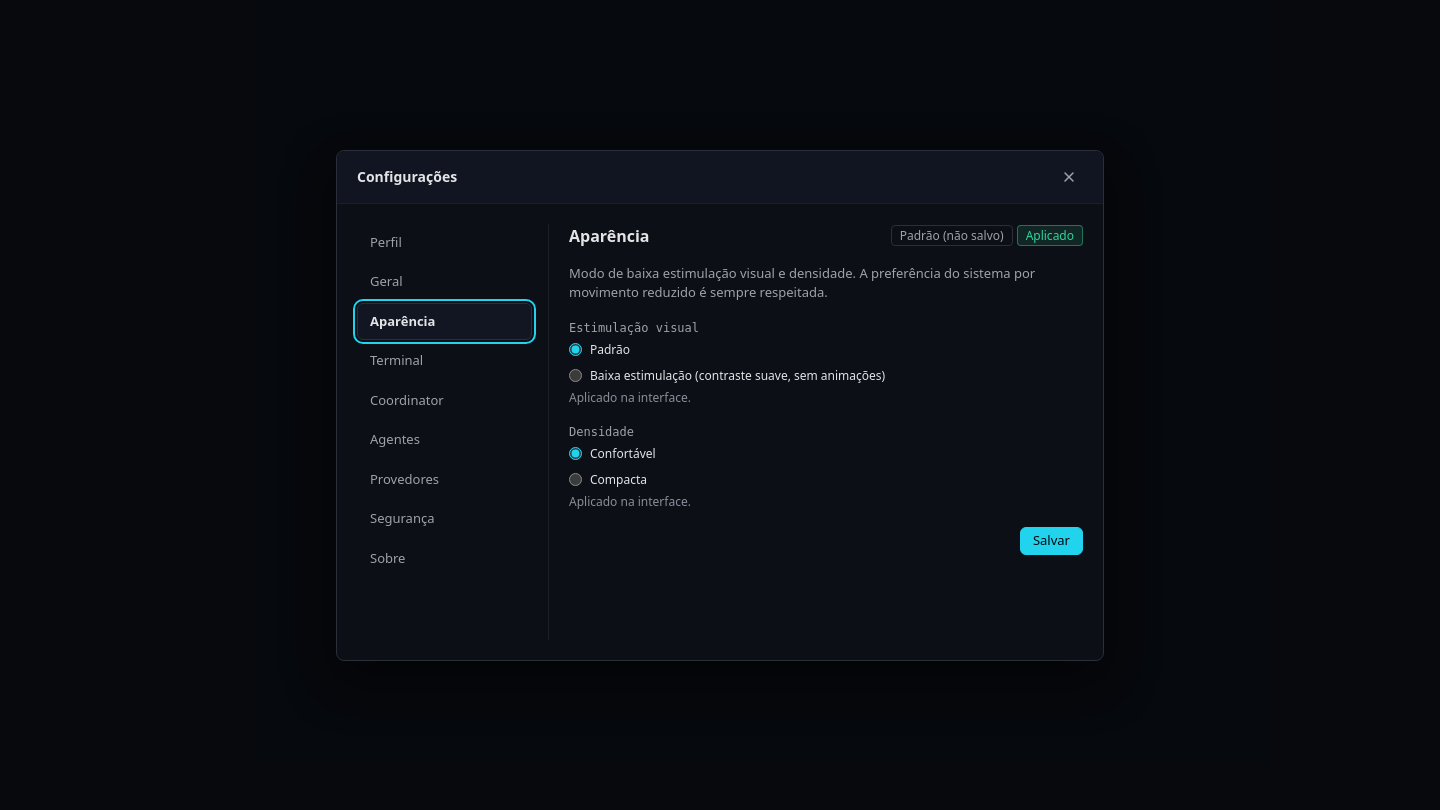
Test: SettingsDialog — configurações integradas (Etapa 4) › salva Aparência e só declara aplicado o modo de baixa estimulação, que é aplicado de fato
Click the radio button labelled "Baixa estimulação (contraste suave, sem animações)" at (576, 375), box [569, 368, 582, 382]
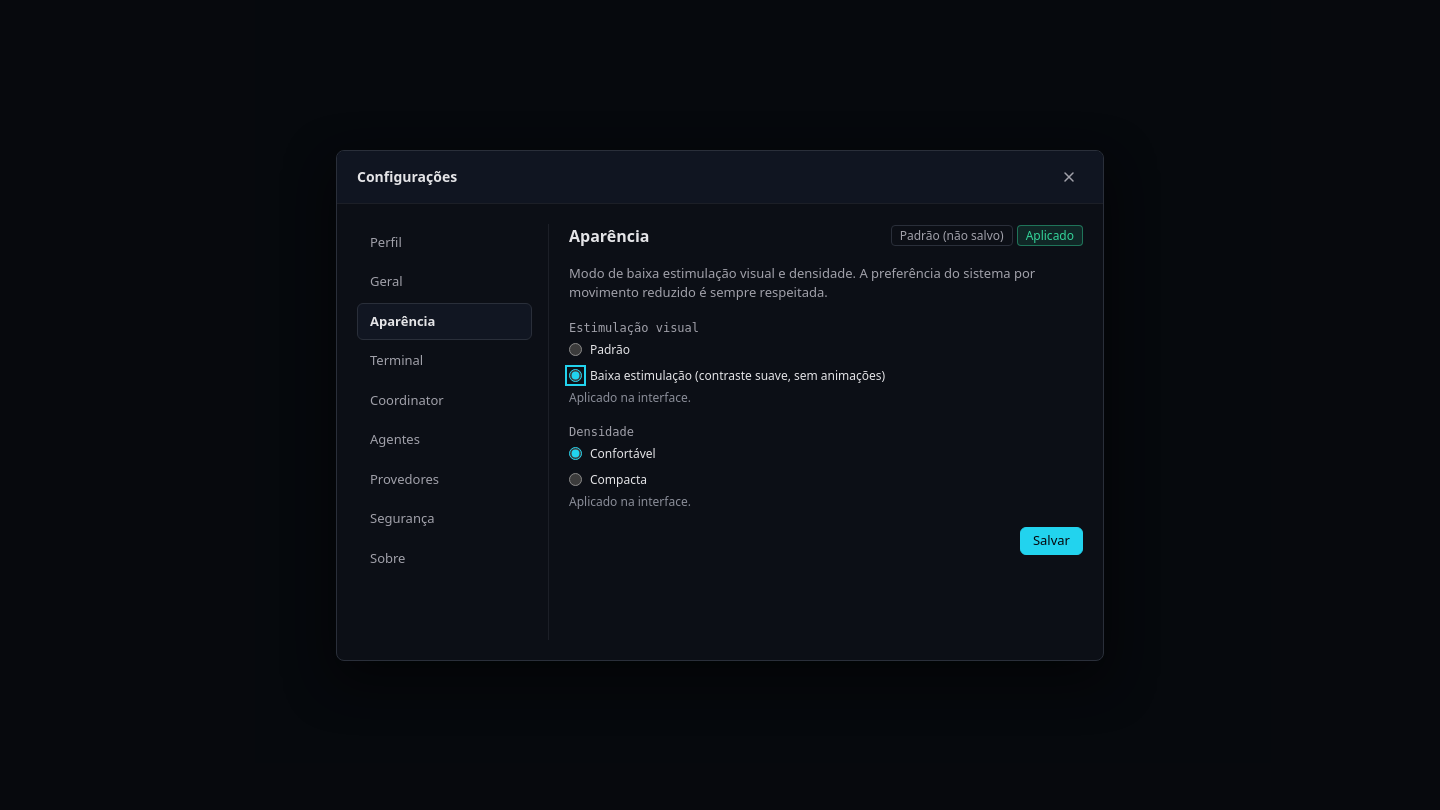
Click the button "Salvar" at (1051, 540), box [1020, 526, 1083, 554]
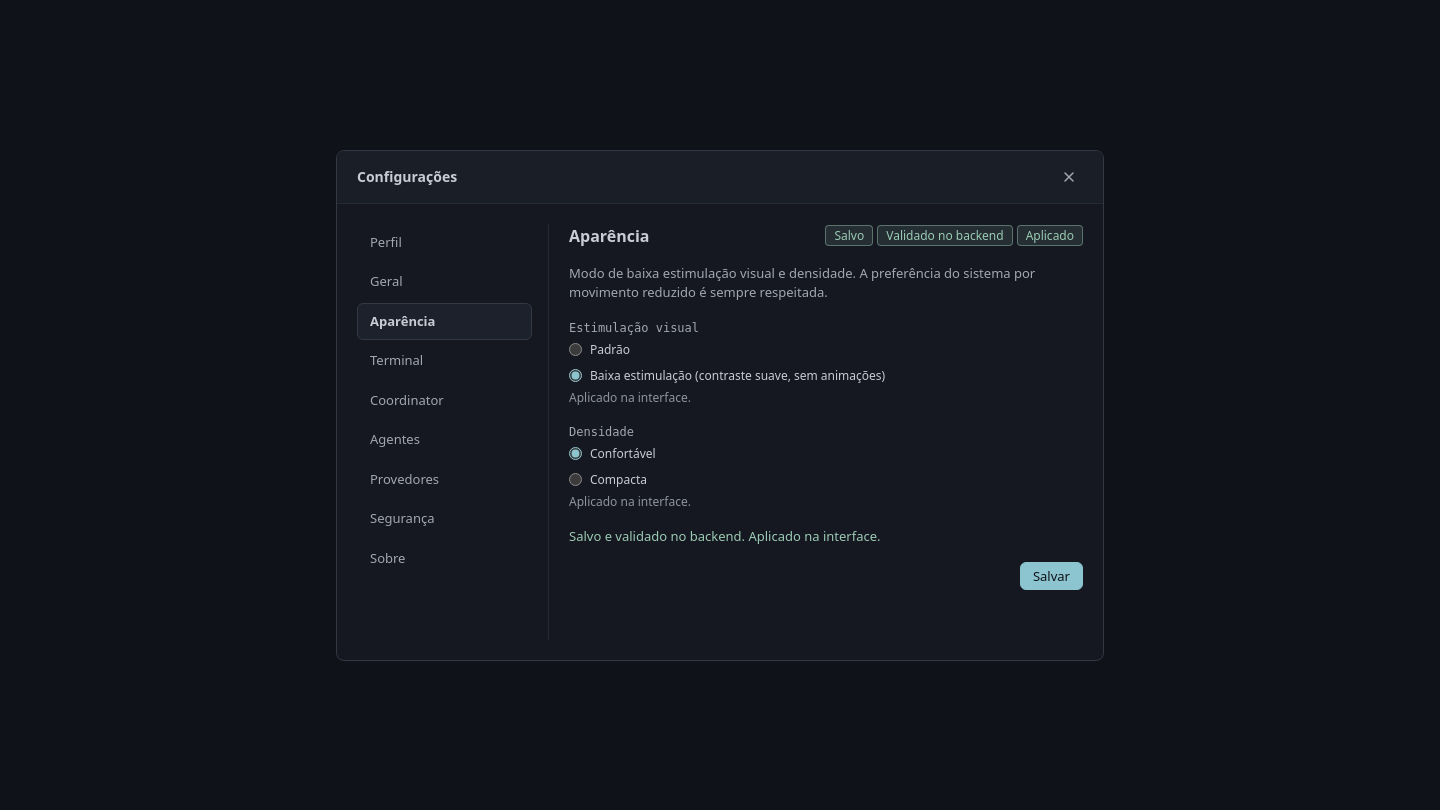
Expected: the text "Salvo" is shown, [825, 225, 873, 246]
Expected: the text "Validado no backend" is shown, [877, 225, 1013, 246]
Expected: the text "Salvo e validado no backend. Aplicado na interface." is shown, [569, 526, 880, 544]
